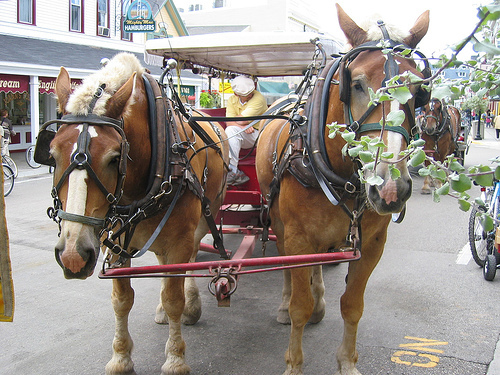horse: (255, 1, 448, 373), (50, 56, 230, 375)
